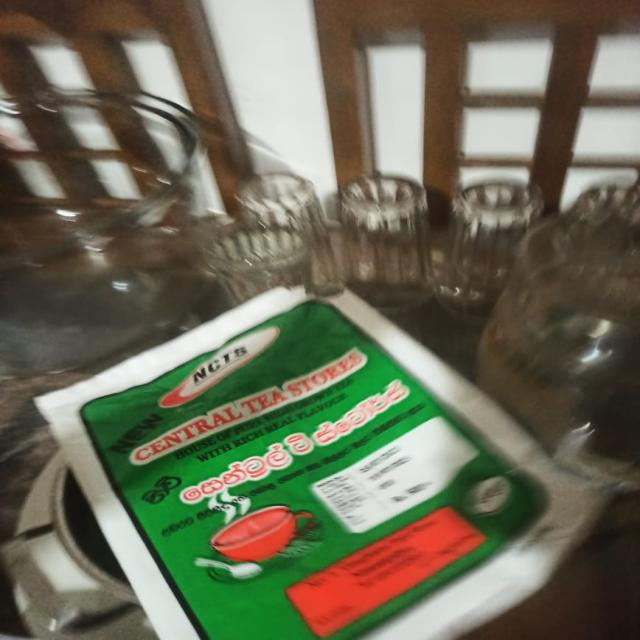Central Tea: (12, 336, 544, 640)
